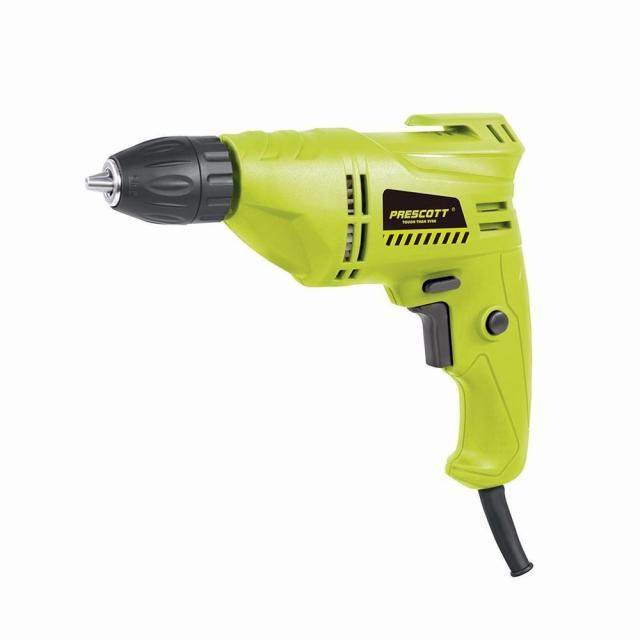drill: (84, 113, 536, 579)
